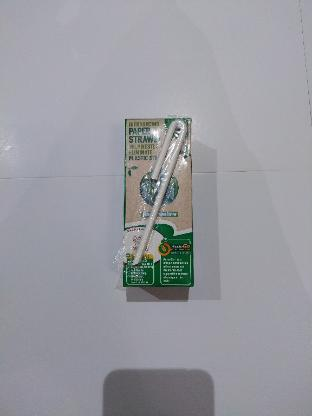Others: (118, 115, 196, 289)
